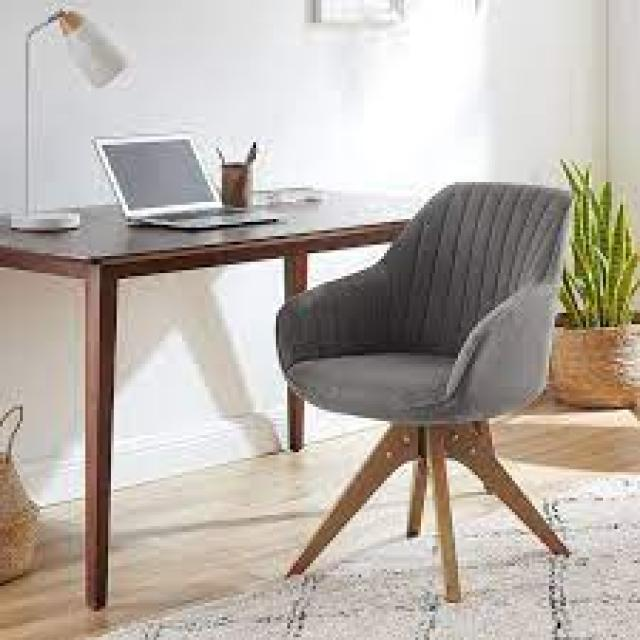chair: (177, 143, 639, 640)
